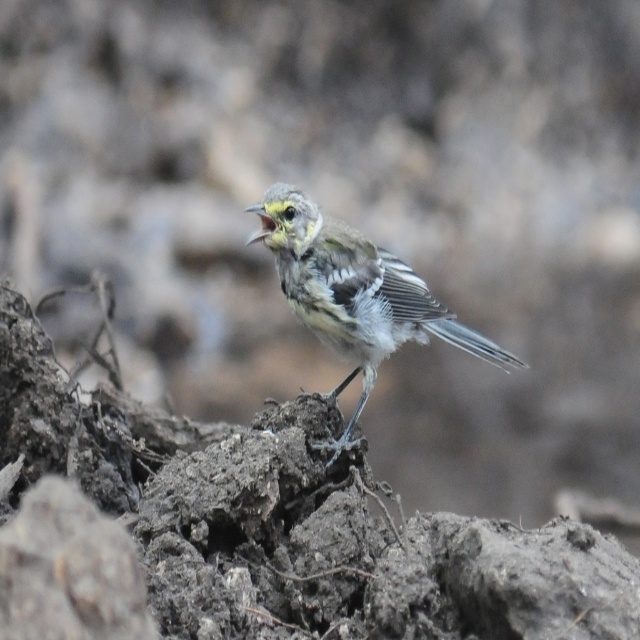Sparrow: (239, 183, 523, 466)
